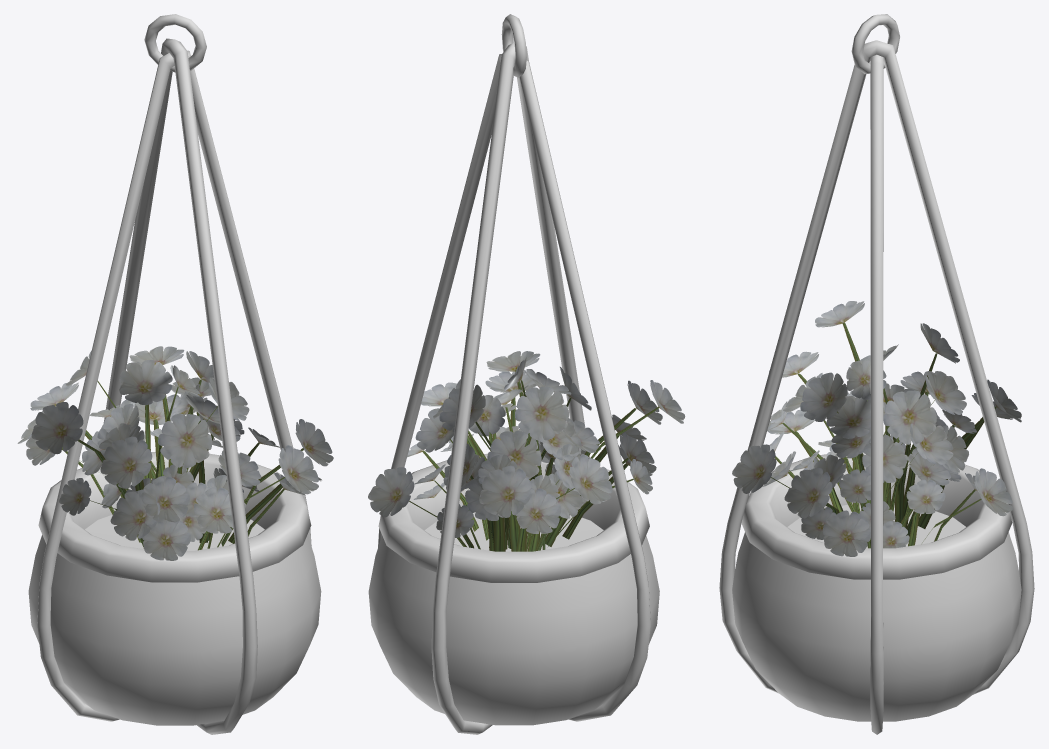
The model's file is SM_Potted_White2_Flower_F.fbx.
3 renders of one model, left to right at view 1: azimuth 30°, elevation 25°; view 2: azimuth 150°, elevation 25°; view 3: azimuth 270°, elevation 25°, orthographic.
Parts seen in each view (by area): view 1: SM_Potted_White2_Flower_F_LOD0; view 2: SM_Potted_White2_Flower_F_LOD0; view 3: SM_Potted_White2_Flower_F_LOD0.
Part boxes in pixels (<box>): SM_Potted_White2_Flower_F_LOD0: <box>17,14,333,734</box>; SM_Potted_White2_Flower_F_LOD0: <box>368,14,685,734</box>; SM_Potted_White2_Flower_F_LOD0: <box>719,14,1034,734</box>.
Size of the model in its own units: 31.81 by 29.61 by 71.54.
Materials: 2 (1 with a texture image).
